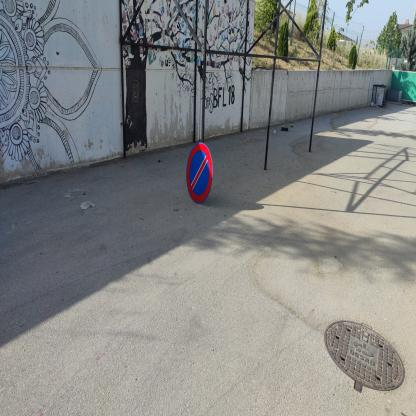No Waiting: (187, 143, 214, 205)
